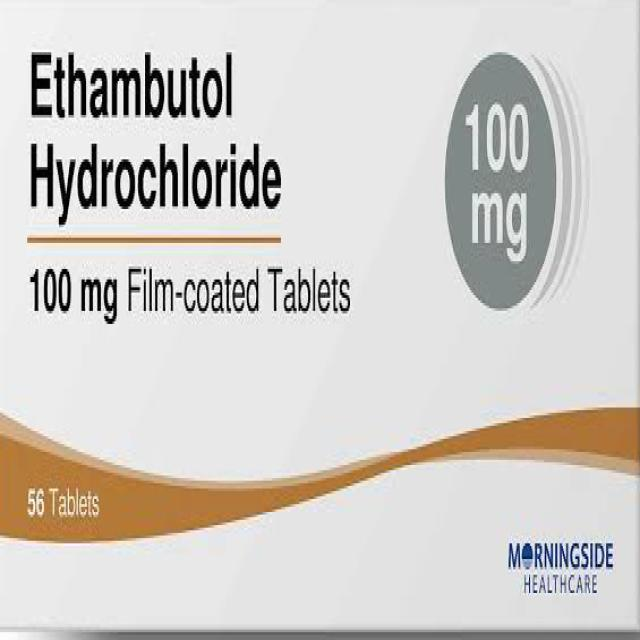drug-name: (24, 40, 283, 226)
